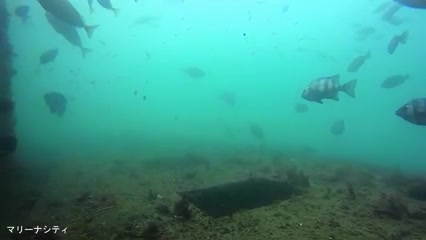smallfish: (292, 68, 367, 109), (40, 89, 75, 121), (379, 69, 414, 91)
